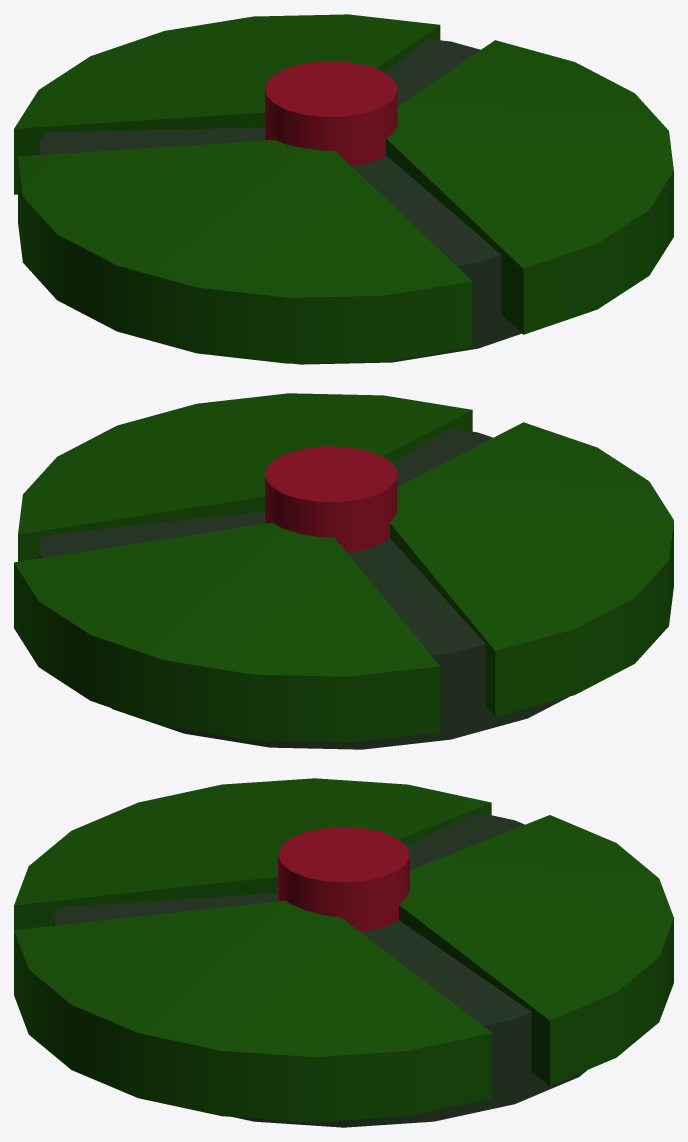
The model's file is Landmine.fbx.
The picture shows the model from 3 angles, top to bottom: view 1: azimuth 30°, elevation 25°; view 2: azimuth 150°, elevation 25°; view 3: azimuth 270°, elevation 25°; orthographic projection.
Parts seen in each view (by area): view 1: pCylinder4; view 2: pCylinder4; view 3: pCylinder4.
Boxes of the visible parts, bbox=[...] form: pCylinder4: bbox=[14, 14, 673, 364]; pCylinder4: bbox=[14, 393, 673, 749]; pCylinder4: bbox=[14, 778, 673, 1127].
Bounding box in the file's own units: 17.14 × 4.3 × 17.14.
